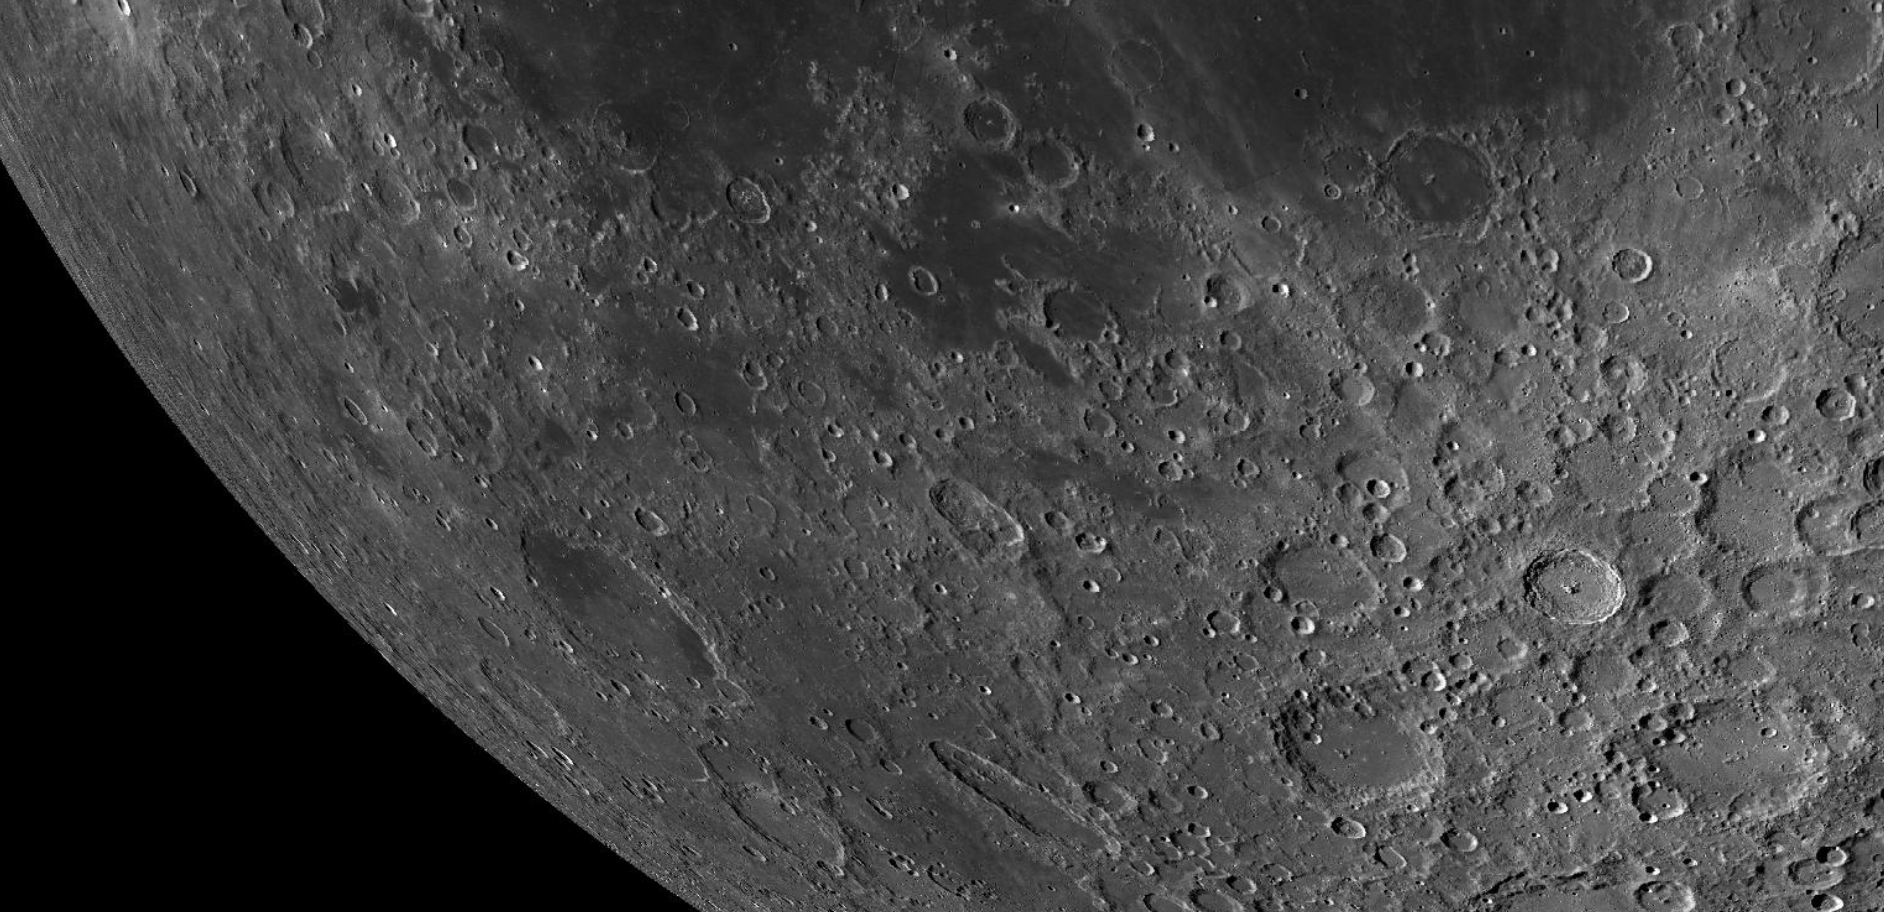crater: (499, 506, 819, 728), (898, 721, 1151, 866), (1240, 676, 1463, 828), (1314, 99, 1518, 248), (1216, 527, 1403, 637), (1506, 530, 1630, 639), (1084, 18, 1203, 111), (463, 646, 582, 733), (576, 87, 676, 187), (928, 78, 1020, 178), (1014, 114, 1087, 214), (713, 159, 785, 236), (1592, 217, 1661, 298), (1793, 376, 1865, 443), (457, 103, 520, 169), (658, 374, 721, 433), (894, 255, 960, 310), (105, 179, 160, 242), (321, 385, 377, 440), (276, 17, 324, 52), (1716, 67, 1755, 102)
